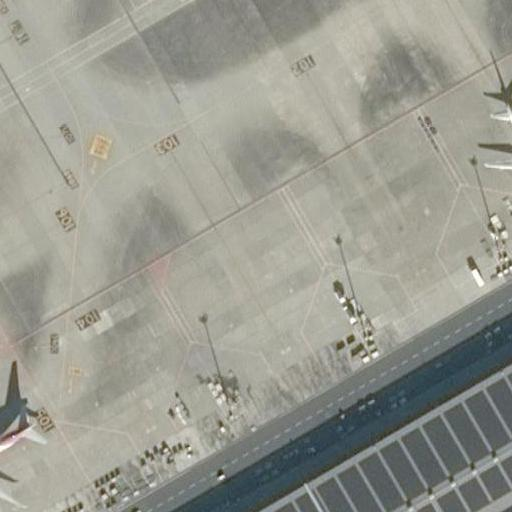Aircraft: (0, 376, 55, 509), (476, 81, 512, 207)
